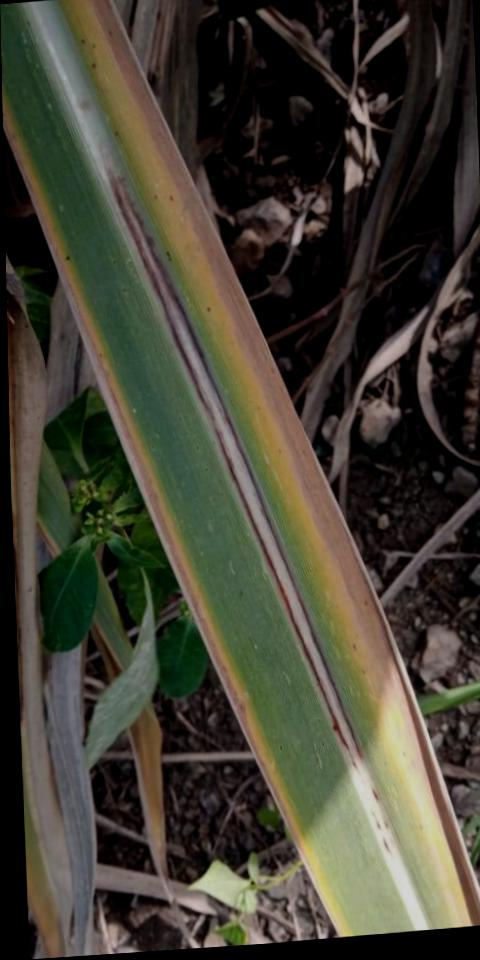RedRot: (99, 167, 369, 771)
Yellow: (58, 0, 467, 922), (2, 88, 353, 935)
